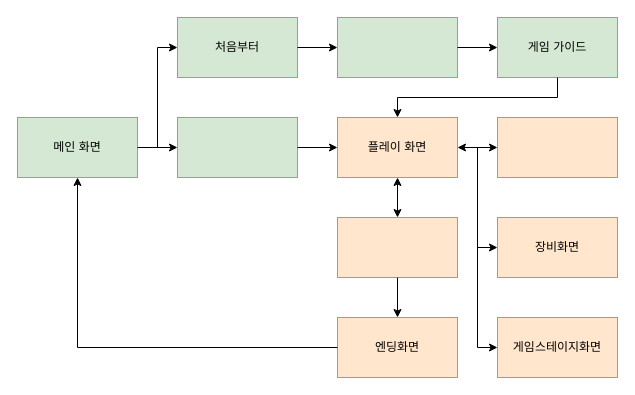
Some shapes in this 635 by 395 pixel diagram are drawn without their labels. The centre of each missing label's shape, as x and y in pixels:
"닉네임 설정" belongs at point 397,47.
"보스스테이지화면" belongs at point 397,247.
"스킬강화화면" belongs at point 557,147.
"이어하기" belongs at point 237,147.
